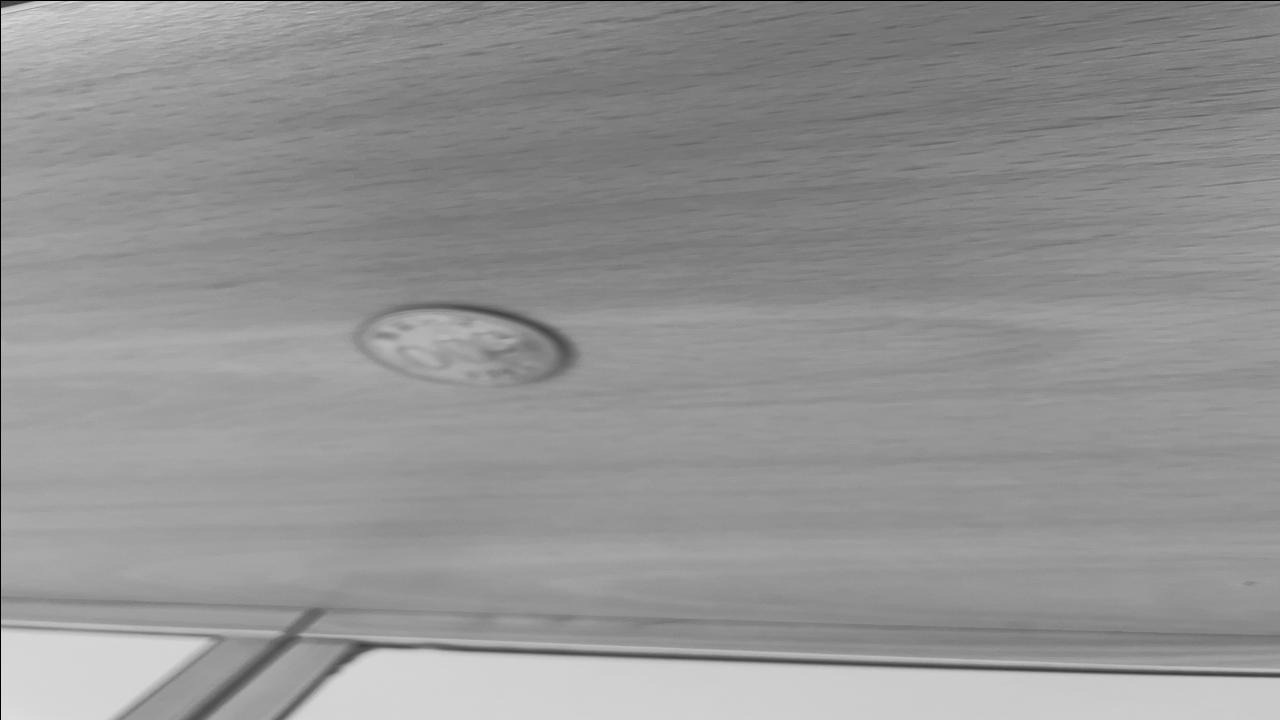coin: (352, 304, 568, 388)
